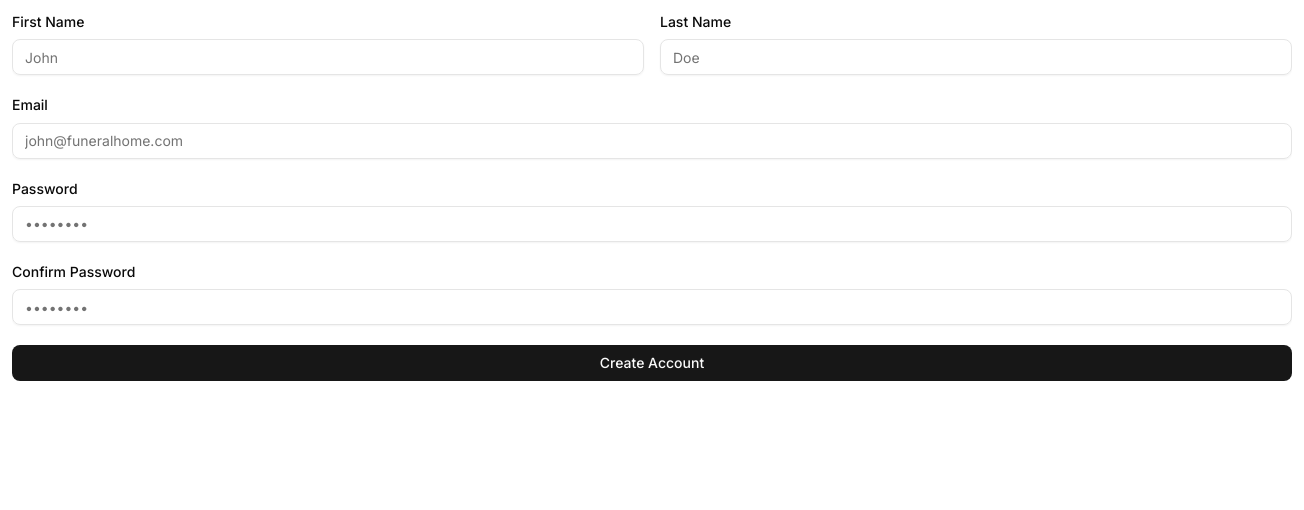
Test: RegisterForm › should show validation errors for empty fields
Click the button "Create Account".
click(652, 363)  # box [12, 345, 1292, 381]
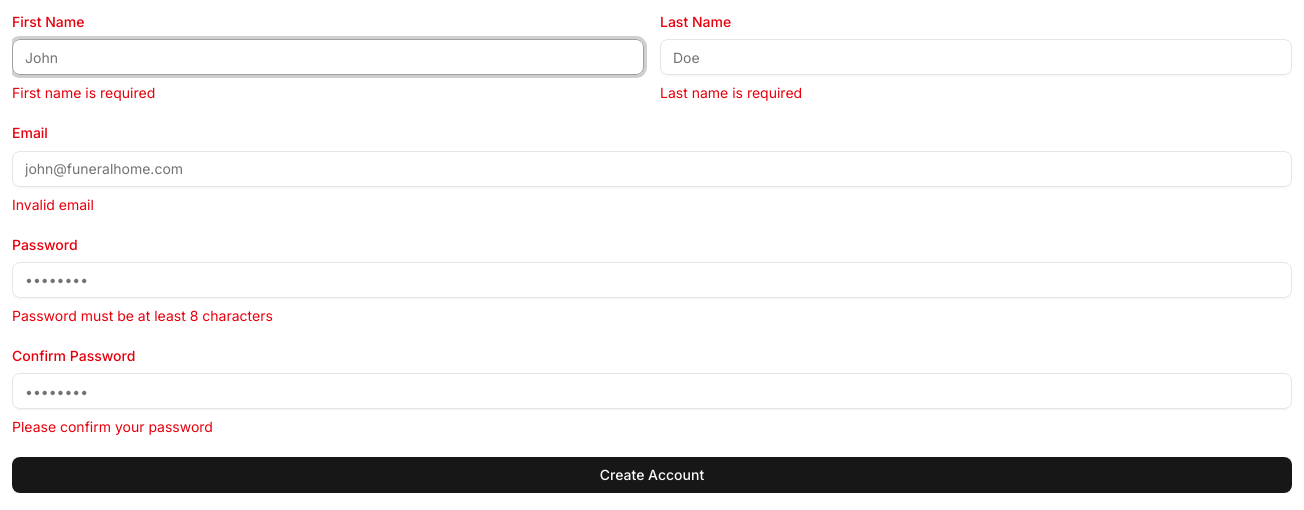
Result: the text "First name is required" is shown at [12, 84, 155, 101]
Result: the text "Last name is required" is shown at [660, 84, 802, 101]
Result: the text "Invalid email" is shown at [12, 196, 94, 212]
